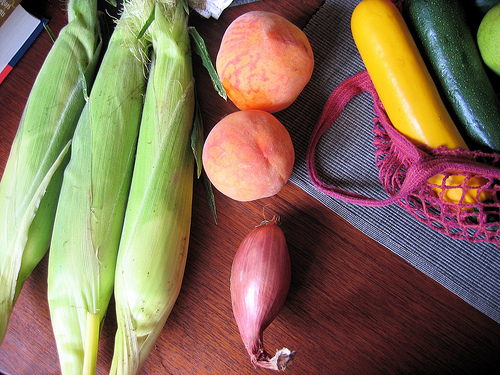onion: (228, 212, 298, 373)
